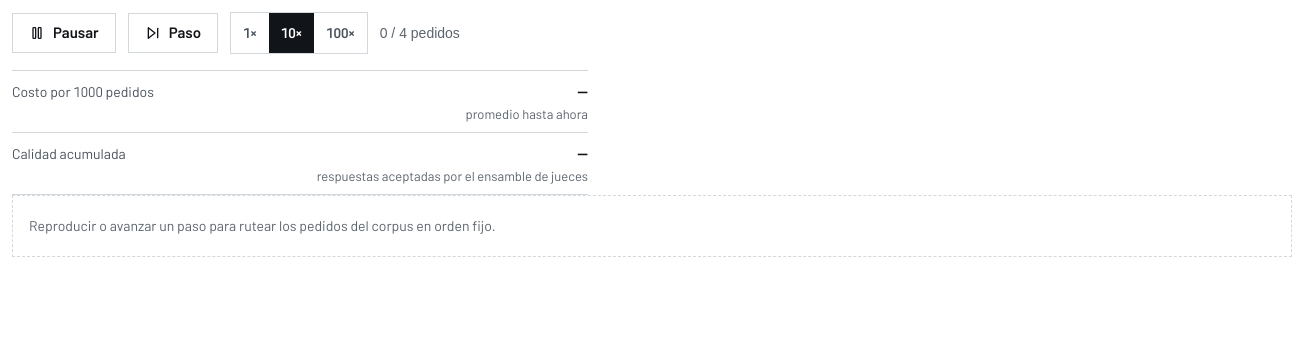
Scenario: ReplayFeed › plays at the chosen speed, stops at the end and cleans up on unmount
Click the button "1×" at coordinates (250, 33), box [231, 13, 269, 53]
Wait 2000 ms
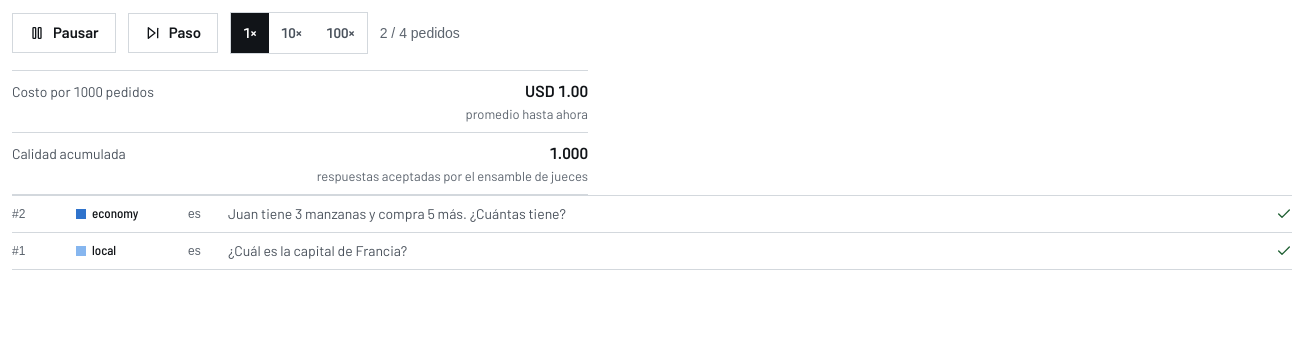
Now the text "2 / 4 pedidos" is shown, box [380, 23, 460, 43]
Click the button "100×" at coordinates (340, 33), box [314, 13, 367, 53]
Wait 200 ms
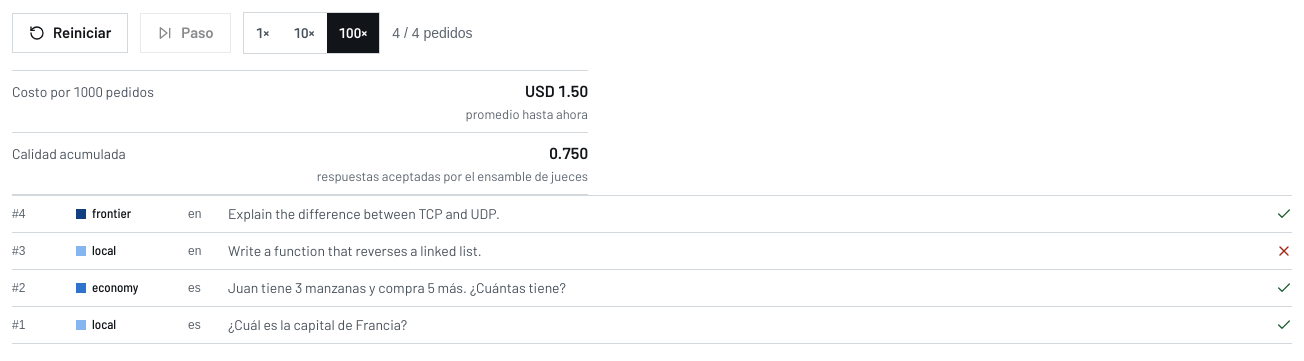
Now the text "4 / 4 pedidos" is shown, box [392, 23, 472, 43]
Now the button "Reiniciar" is shown, box [12, 13, 128, 53]
